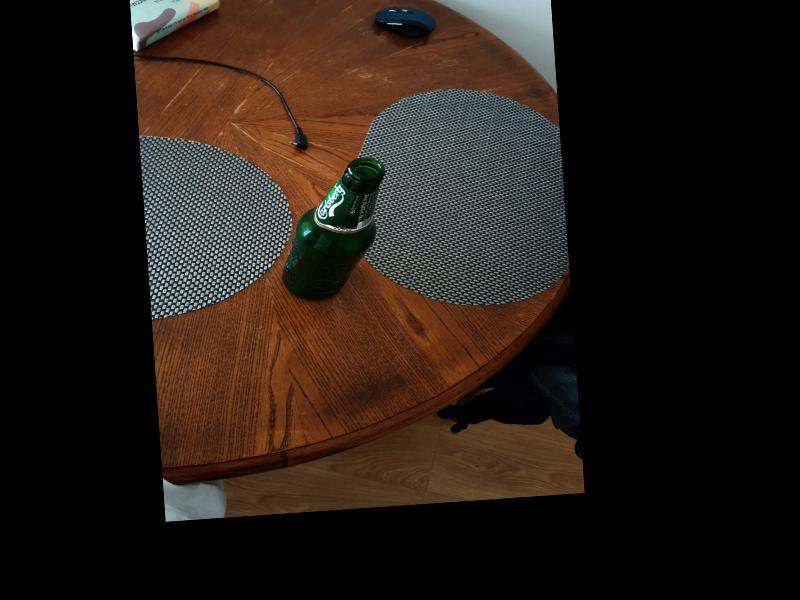Beer: (269, 156, 394, 304)
